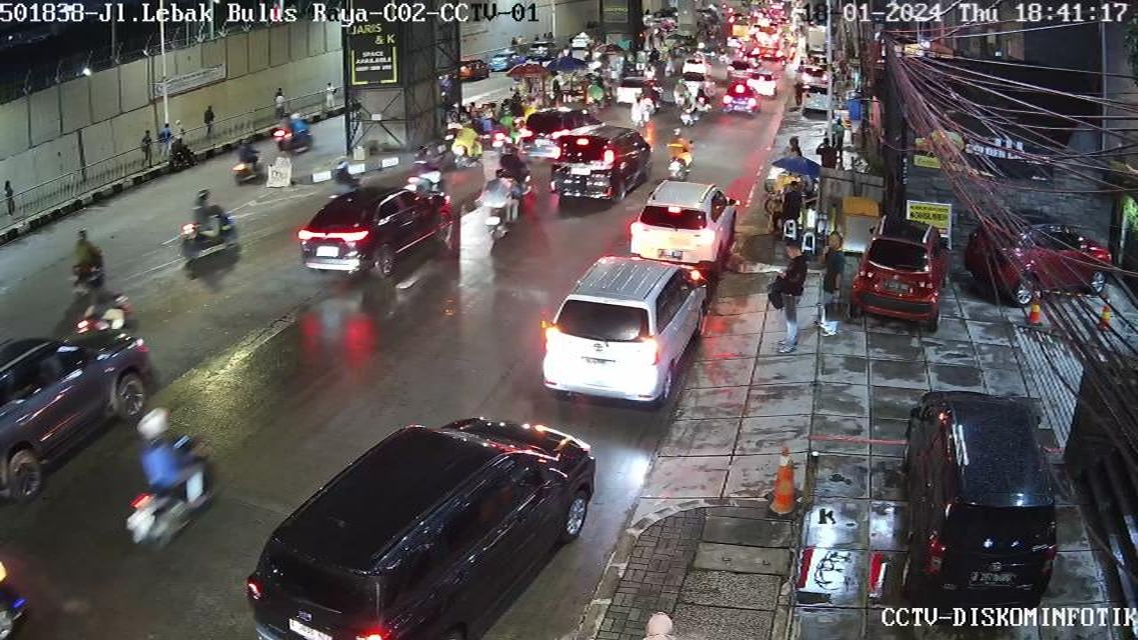Gerobak: (770, 165, 820, 230)
